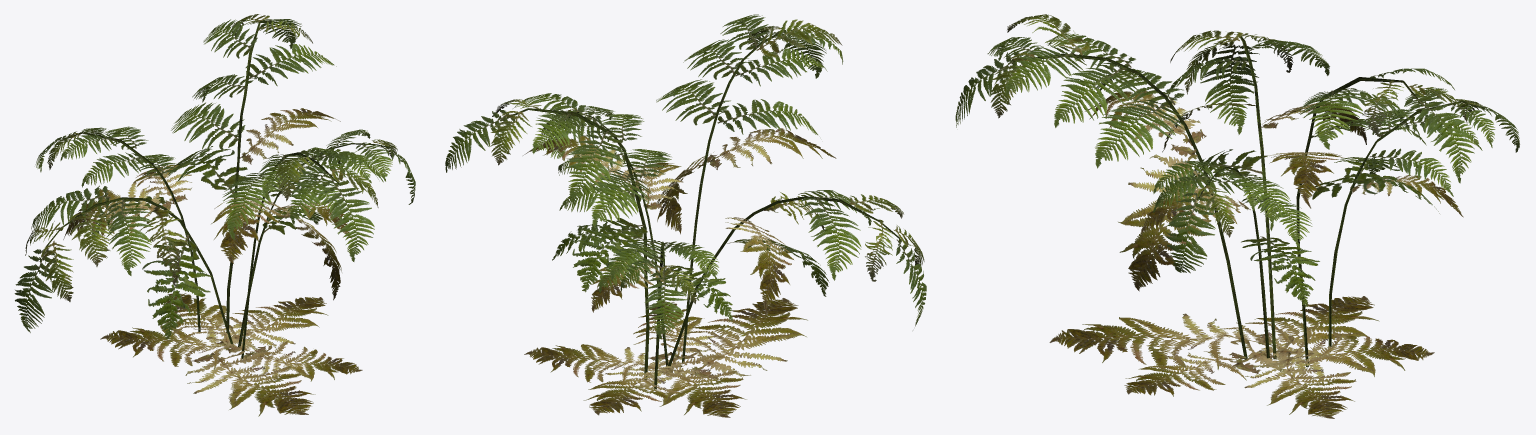
Rendered from PW_Plant_Fern_01_01.fbx.
3 views of the same model, side by side, from view 1: azimuth 30°, elevation 25°; view 2: azimuth 150°, elevation 25°; view 3: azimuth 270°, elevation 25° (orthographic). The views are drawn at different scales.
Visible parts, largest first — view 1: PW_Flower_Fern_01_LOD0; view 2: PW_Flower_Fern_01_LOD0; view 3: PW_Flower_Fern_01_LOD0.
Part boxes in pixels (x1,y1,x2,y2): PW_Flower_Fern_01_LOD0: [14, 14, 415, 416]; PW_Flower_Fern_01_LOD0: [445, 14, 926, 417]; PW_Flower_Fern_01_LOD0: [955, 14, 1519, 418].
Size of what is drawn, in the model's own units: 134 by 93.39 by 146.
Materials: 1 (1 with a texture image).
